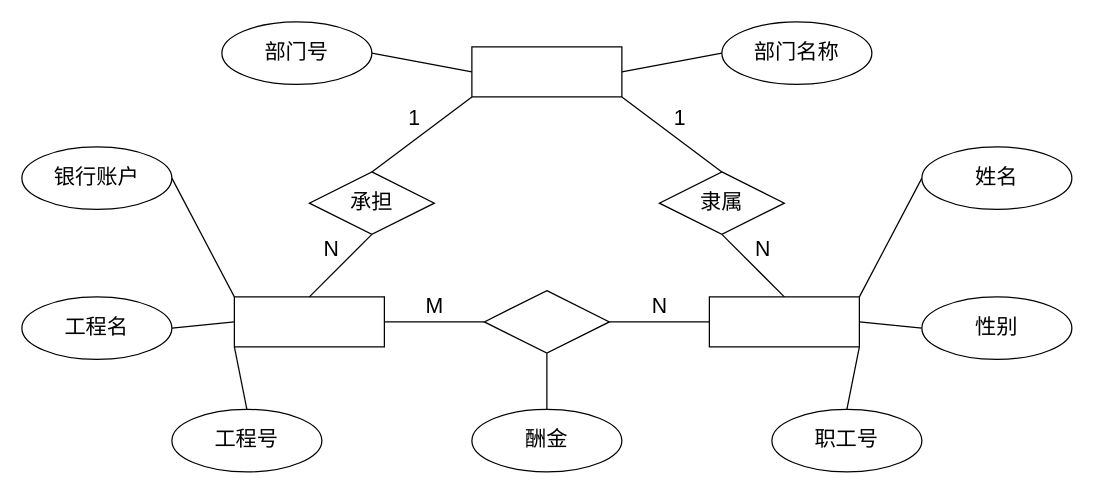
Some shapes in this 1094 by 494 pixel diagram are drawn without their labels. Here are the shapes that lost their labels. From the top down, the centre of each, then its label:
[546,71]: 部门
[308,321]: 工程项目
[546,321]: 参与
[783,321]: 职工
